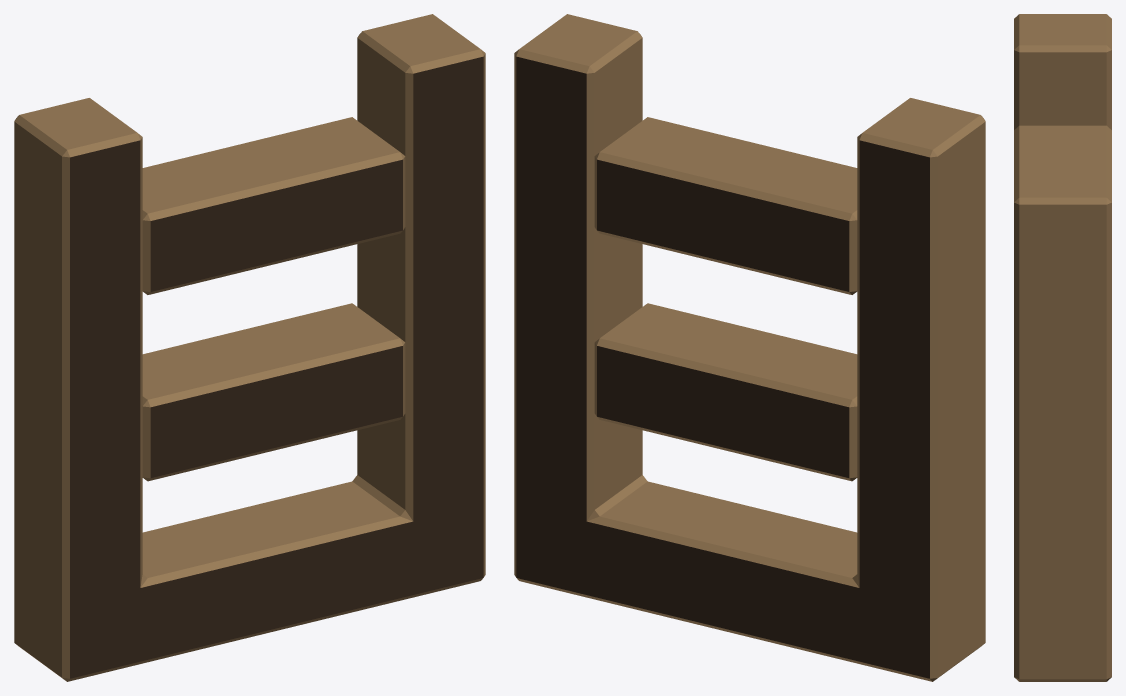
The model's file is bieup.glb.
3 renders of one model, left to right at view 1: azimuth 30°, elevation 25°; view 2: azimuth 150°, elevation 25°; view 3: azimuth 270°, elevation 25°, orthographic. The views are drawn at different scales.
Visible parts, largest first — view 1: Glyph; view 2: Glyph; view 3: Glyph.
Boxes of the visible parts, x1,y1,x2,y2 form: Glyph: [14, 14, 485, 681]; Glyph: [514, 14, 985, 681]; Glyph: [1014, 14, 1111, 681].
Bounding box in the file's own units: 0.5 × 0.6 × 0.11.
